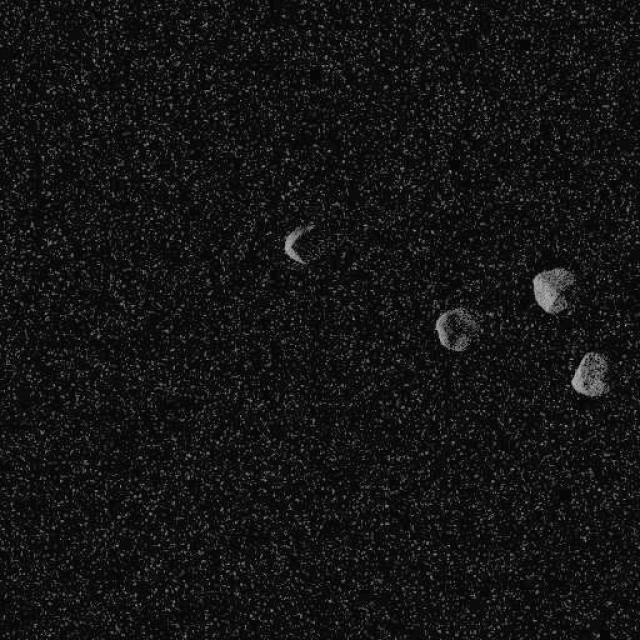D2: (531, 265, 575, 315), (434, 306, 478, 352), (570, 350, 610, 398), (283, 222, 315, 266)
